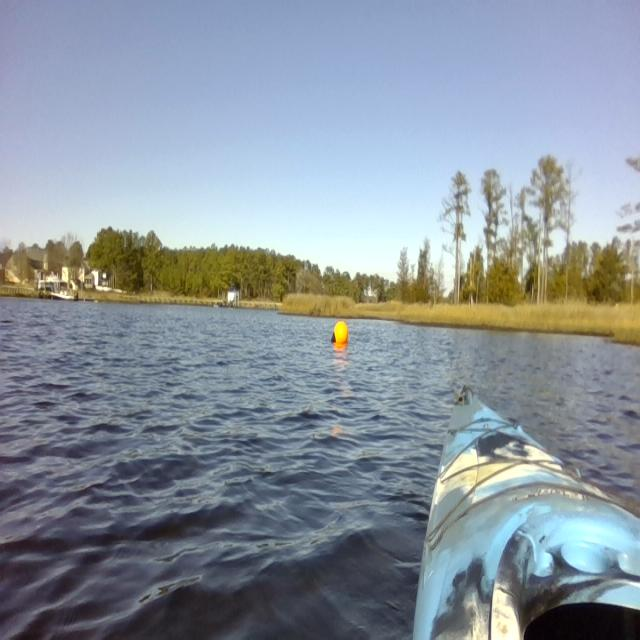Buoy: (324, 318, 355, 357)
